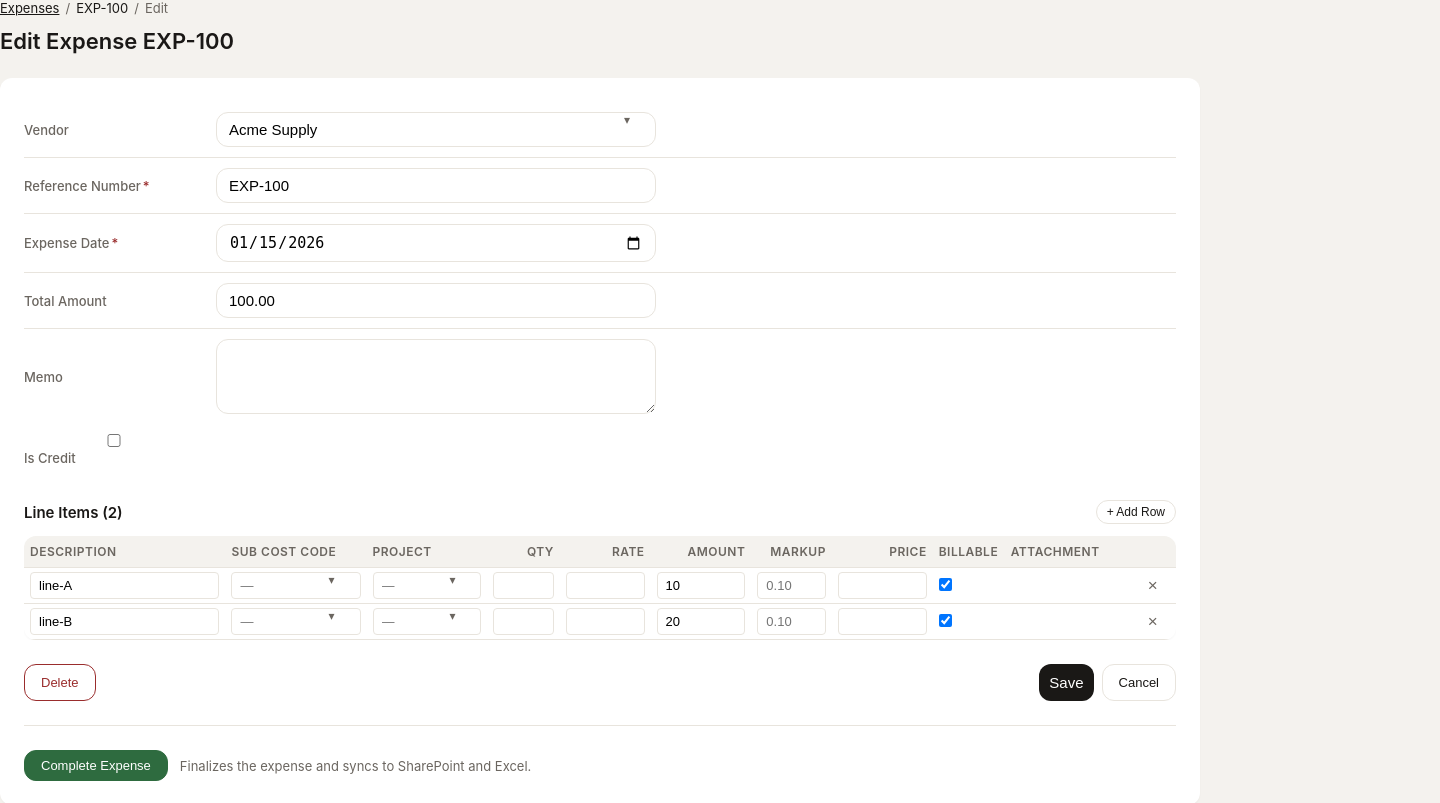
Test: ExpenseEdit receipt re-homing on line delete (U-171 / U-476) › a non-404 failure on a REMOVED line's link GET aborts the save and issues NO delete
This screenshot has width=1440, height=803.
Click the 1st button titled "Remove": click(1153, 586) [1142,575,1164,596]
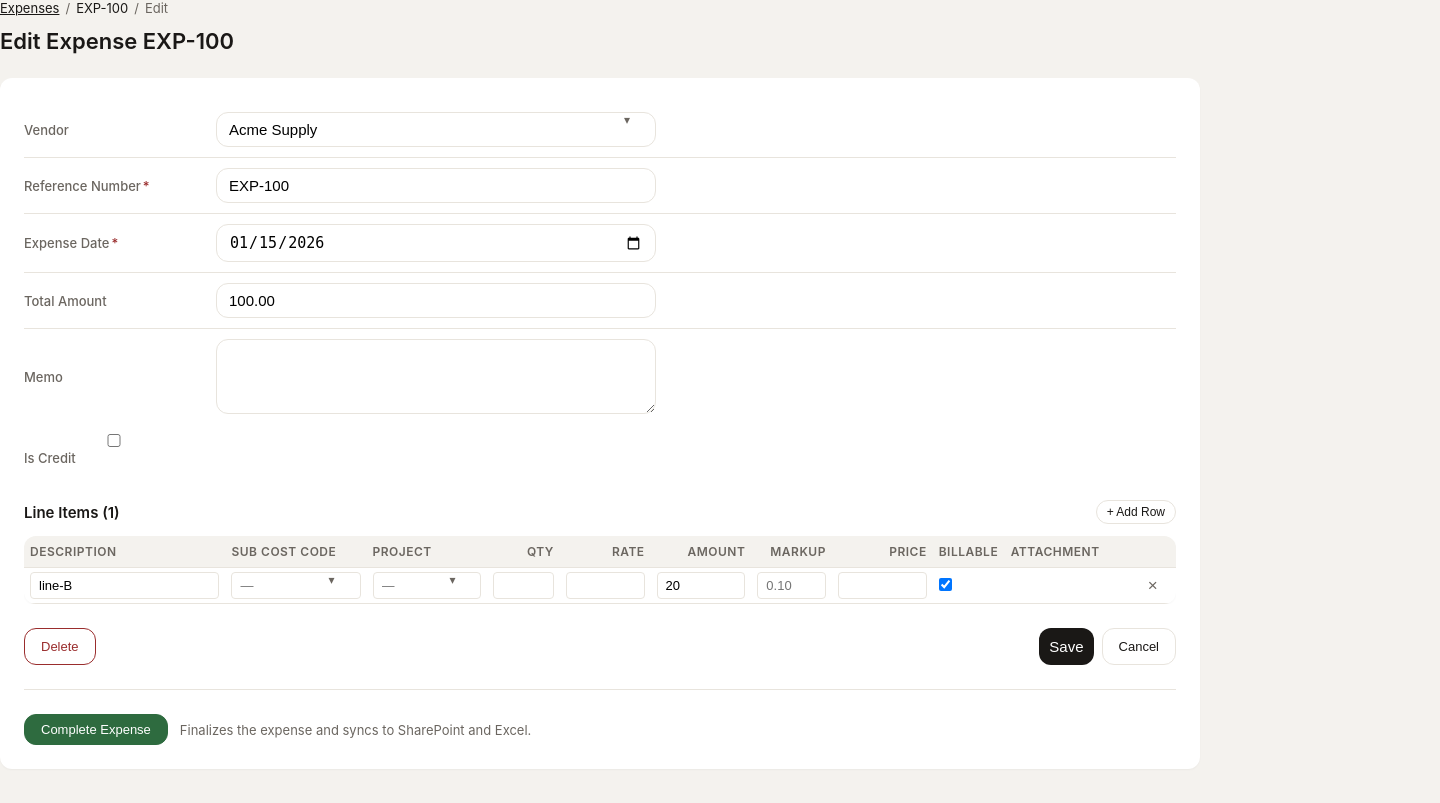
Click the button "Save": click(1066, 646) [1039,628,1094,665]
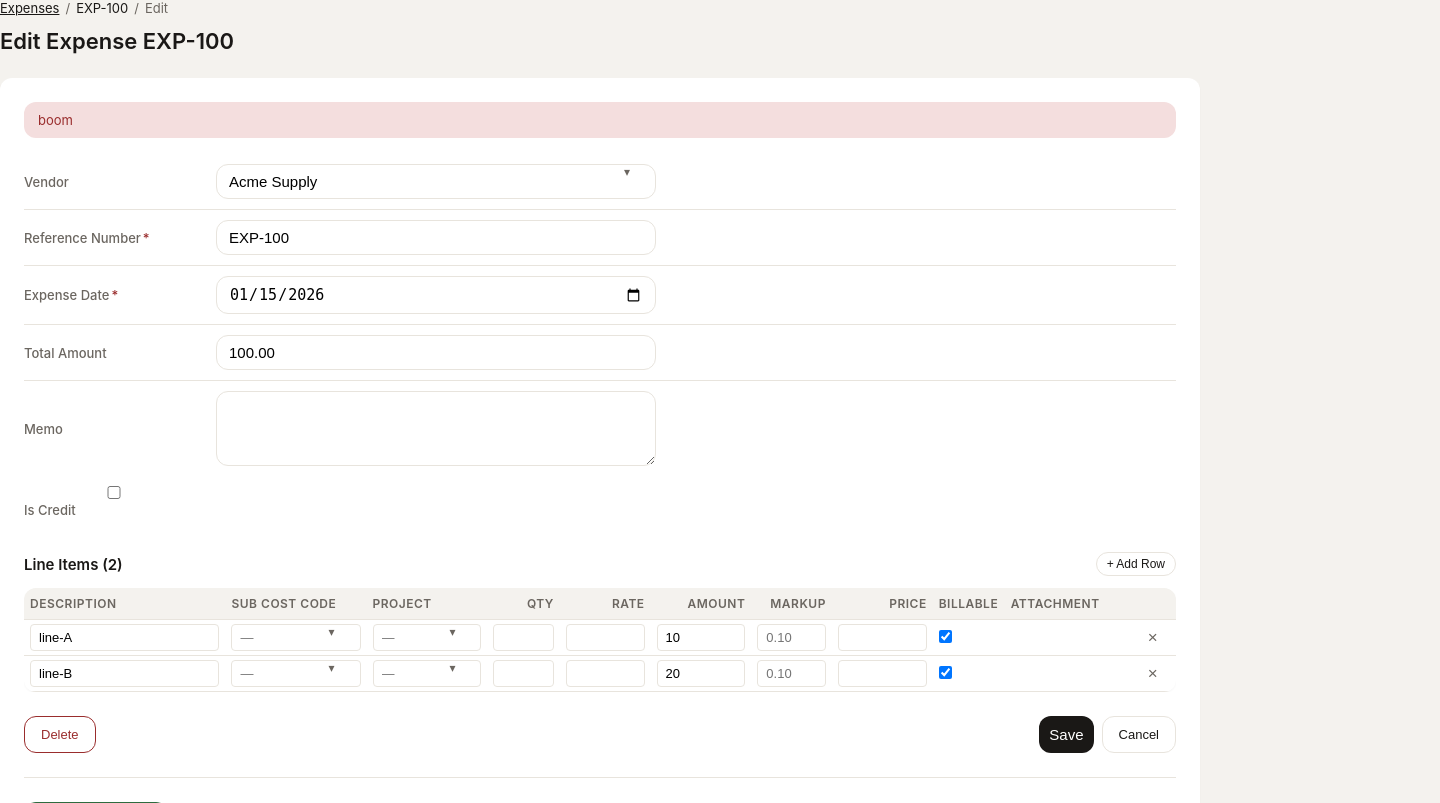
Result: the text "boom" is shown at [24,102,1176,138]
